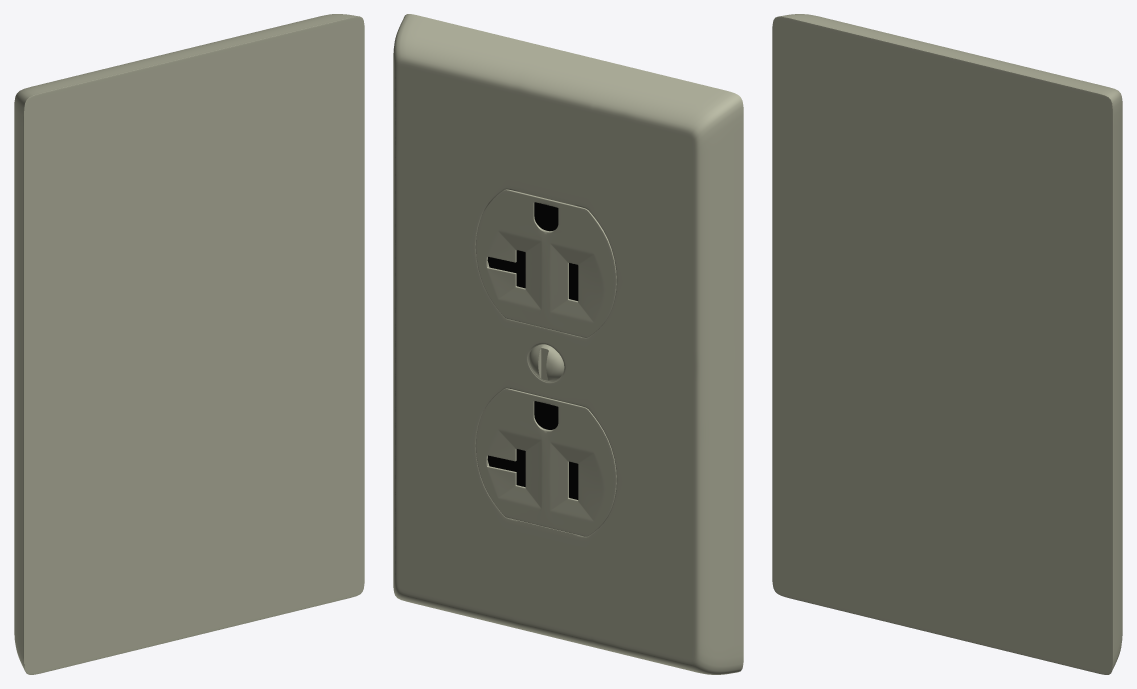
Rendered from Switch.fbx.
The picture shows the model from 3 angles, left to right: view 1: azimuth 30°, elevation 25°; view 2: azimuth 150°, elevation 25°; view 3: azimuth 330°, elevation 25°; orthographic projection.
Visible parts, largest first — view 1: switch; view 2: switch; view 3: switch.
Part boxes in pixels (bbox=[...]): switch: bbox=[14, 14, 364, 674]; switch: bbox=[393, 14, 743, 674]; switch: bbox=[772, 14, 1122, 674].
Bounding box in the file's own units: 7.27 × 11.82 × 1.16.
